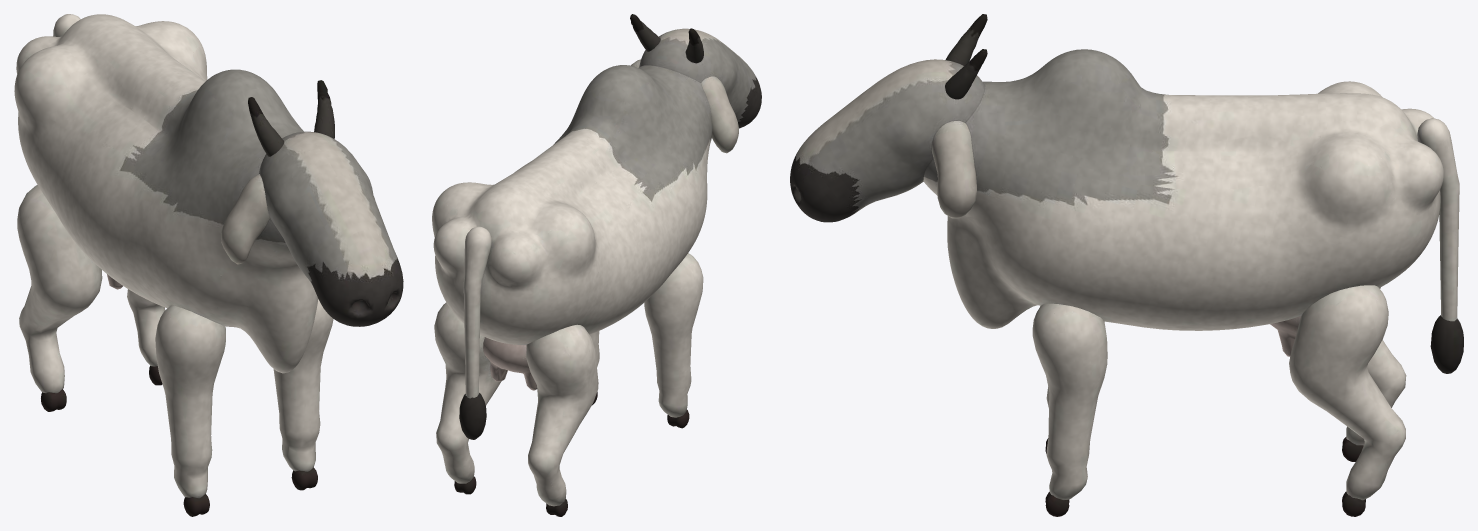
The model's file is animal_zebu.glb.
3 views of the same model, side by side, from view 1: azimuth 30°, elevation 25°; view 2: azimuth 150°, elevation 25°; view 3: azimuth 270°, elevation 25° (orthographic). The views are drawn at different scales.
Parts seen in each view (by area): view 1: animal_zebu, head, leg2, leg0, leg1, leg3; view 2: animal_zebu, leg2, head, leg0, leg3, tail; view 3: animal_zebu, head, leg3, leg1, tail, leg2.
Part boxes in pixels (x1=…): animal_zebu: x1=14, y1=14, x2=318, y2=373; head: x1=221, y1=80, x2=403, y2=326; leg2: x1=17, y1=185, x2=102, y2=411; leg0: x1=155, y1=305, x2=225, y2=516; leg1: x1=273, y1=299, x2=333, y2=490; leg3: x1=127, y1=289, x2=165, y2=385; animal_zebu: x1=432, y1=65, x2=712, y2=390; leg2: x1=526, y1=324, x2=598, y2=516; head: x1=630, y1=14, x2=761, y2=153; leg0: x1=644, y1=253, x2=703, y2=428; leg3: x1=434, y1=302, x2=501, y2=494; tail: x1=459, y1=226, x2=491, y2=439; animal_zebu: x1=923, y1=49, x2=1443, y2=356; head: x1=790, y1=14, x2=987, y2=222; leg3: x1=1289, y1=285, x2=1405, y2=516; leg1: x1=1032, y1=303, x2=1107, y2=516; tail: x1=1417, y1=118, x2=1463, y2=373; leg2: x1=1342, y1=287, x2=1406, y2=461.
Bounding box in the file's own units: 0.2778 × 0.6043 × 0.8126.
1 material, 1 textured.
